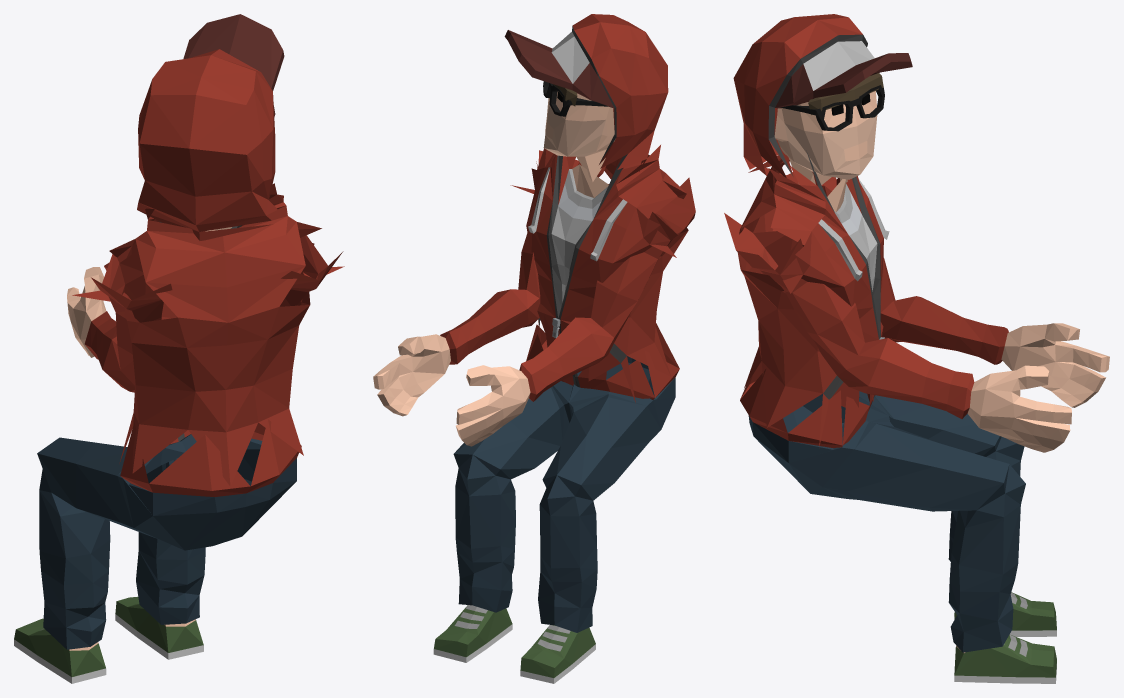
The model's file is Ward_drummer.obj.
3 renders of one model, left to right at view 1: azimuth 30°, elevation 25°; view 2: azimuth 150°, elevation 25°; view 3: azimuth 270°, elevation 25°, orthographic. The views are drawn at different scales.
Visible parts, largest first — view 1: Ward_drummer; view 2: Ward_drummer; view 3: Ward_drummer.
Boxes of the visible parts, bbox=[...] form: Ward_drummer: bbox=[14, 14, 344, 683]; Ward_drummer: bbox=[373, 14, 695, 683]; Ward_drummer: bbox=[724, 14, 1109, 683].
Size of the model in its own units: 0.5901 by 1.52 by 0.839.
Materials: 1 (1 with a texture image).
